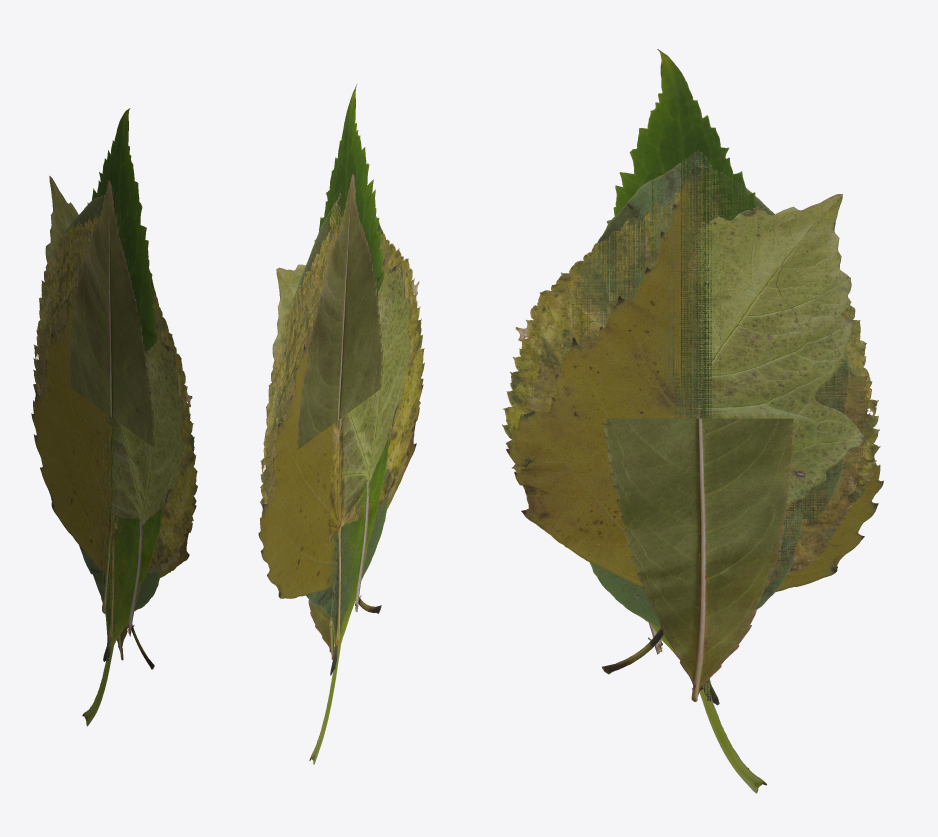
Rendered from Leaf set edited.fbx.
3 views of the same model, side by side, from view 1: azimuth 30°, elevation 25°; view 2: azimuth 150°, elevation 25°; view 3: azimuth 270°, elevation 25° (orthographic). The views are drawn at different scales.
Visible parts, largest first — view 1: leaf 7, leaf 10, leaf 9, leaf 1, leaf 6, leaf 5, leaf 8; view 2: leaf 7, leaf 6, leaf 10, leaf 1, leaf 9, leaf 8, leaf 5; view 3: leaf 7, leaf 10, leaf 1, leaf 6, leaf 8, leaf 9, leaf 5.
Part boxes in pixels (<box>): leaf 7: <box>69,180,154,660</box>; leaf 10: <box>31,201,196,669</box>; leaf 9: <box>82,108,161,726</box>; leaf 1: <box>45,176,183,636</box>; leaf 6: <box>33,192,197,640</box>; leaf 5: <box>38,298,187,613</box>; leaf 8: <box>47,184,173,661</box>; leaf 7: <box>297,174,382,659</box>; leaf 6: <box>260,193,424,645</box>; leaf 10: <box>258,220,423,613</box>; leaf 1: <box>272,264,410,611</box>; leaf 9: <box>309,84,388,764</box>; leaf 8: <box>274,186,389,675</box>; leaf 5: <box>265,225,411,627</box>; leaf 7: <box>602,418,795,701</box>; leaf 10: <box>506,166,883,674</box>; leaf 1: <box>646,194,864,654</box>; leaf 6: <box>502,159,880,565</box>; leaf 8: <box>565,151,849,705</box>; leaf 9: <box>606,49,766,793</box>; leaf 5: <box>525,189,868,583</box>.
Bounding box in the file's own units: 6.11 × 231 × 118.
